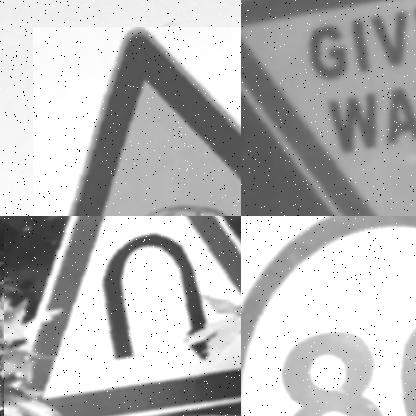Give Way: (241, 0, 416, 216)
Speed Limit (80 kmph): (241, 216, 416, 416)
Steep Descent: (70, 27, 241, 216)
U-Turn: (4, 216, 241, 416)
